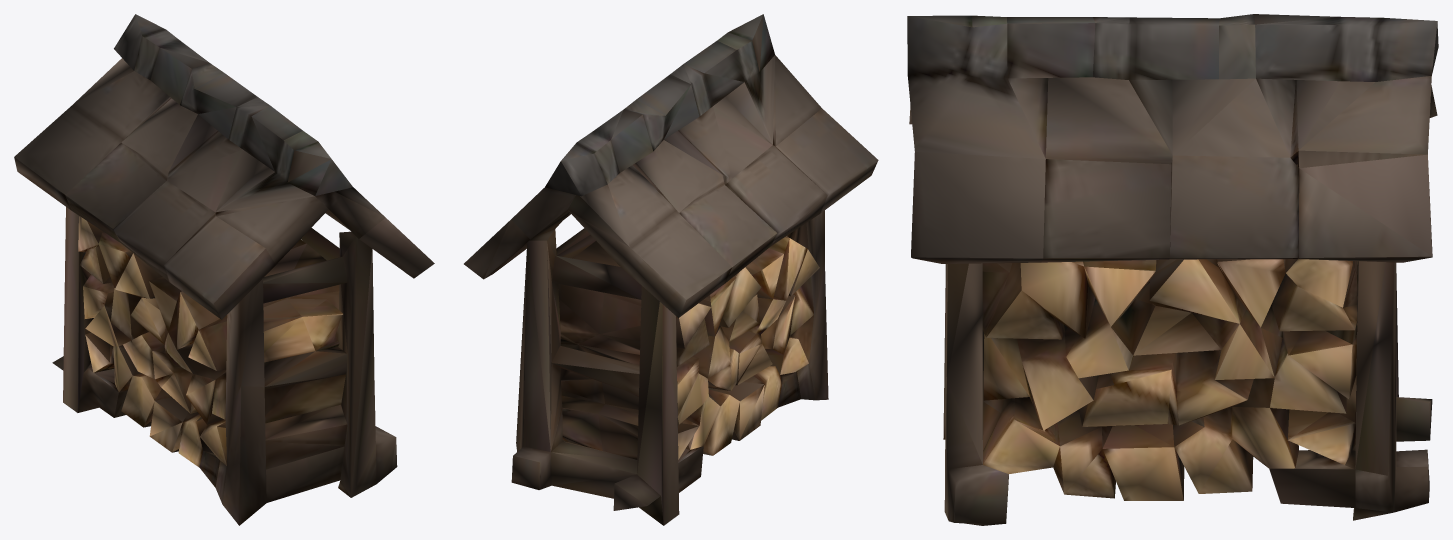
File: firewood.glb
3 views of the same model, side by side, from view 1: azimuth 30°, elevation 25°; view 2: azimuth 150°, elevation 25°; view 3: azimuth 270°, elevation 25° (orthographic). The views are drawn at different scales.
Parts seen in each view (by area): view 1: tripo_node_e0e2e484-ccab-4b4f-aef3-3dbf3b3045da; view 2: tripo_node_e0e2e484-ccab-4b4f-aef3-3dbf3b3045da; view 3: tripo_node_e0e2e484-ccab-4b4f-aef3-3dbf3b3045da.
Boxes of the visible parts, x1,y1,x2,y2 form: tripo_node_e0e2e484-ccab-4b4f-aef3-3dbf3b3045da: (14,14,434,525); tripo_node_e0e2e484-ccab-4b4f-aef3-3dbf3b3045da: (464,14,878,525); tripo_node_e0e2e484-ccab-4b4f-aef3-3dbf3b3045da: (907,14,1438,525).
Bounding box in the file's own units: 0.6306 × 0.9542 × 0.962.
1 material, 1 textured.
